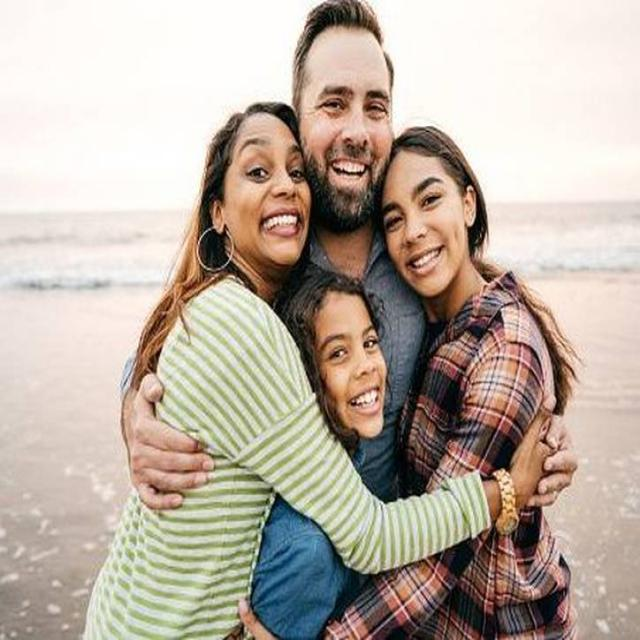adult: (80, 105, 556, 640), (384, 128, 560, 640), (283, 0, 420, 290)
child: (274, 270, 388, 640)
